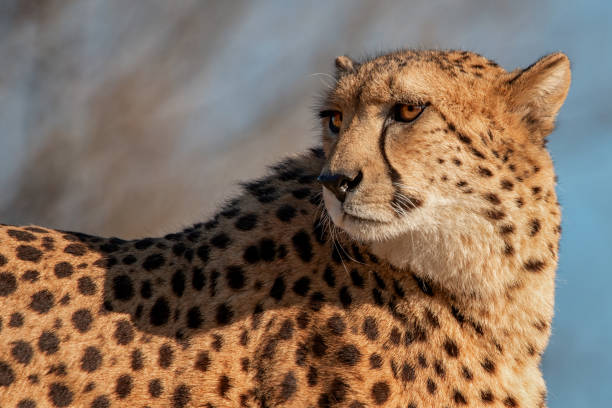cheetah: (294, 25, 590, 304)
